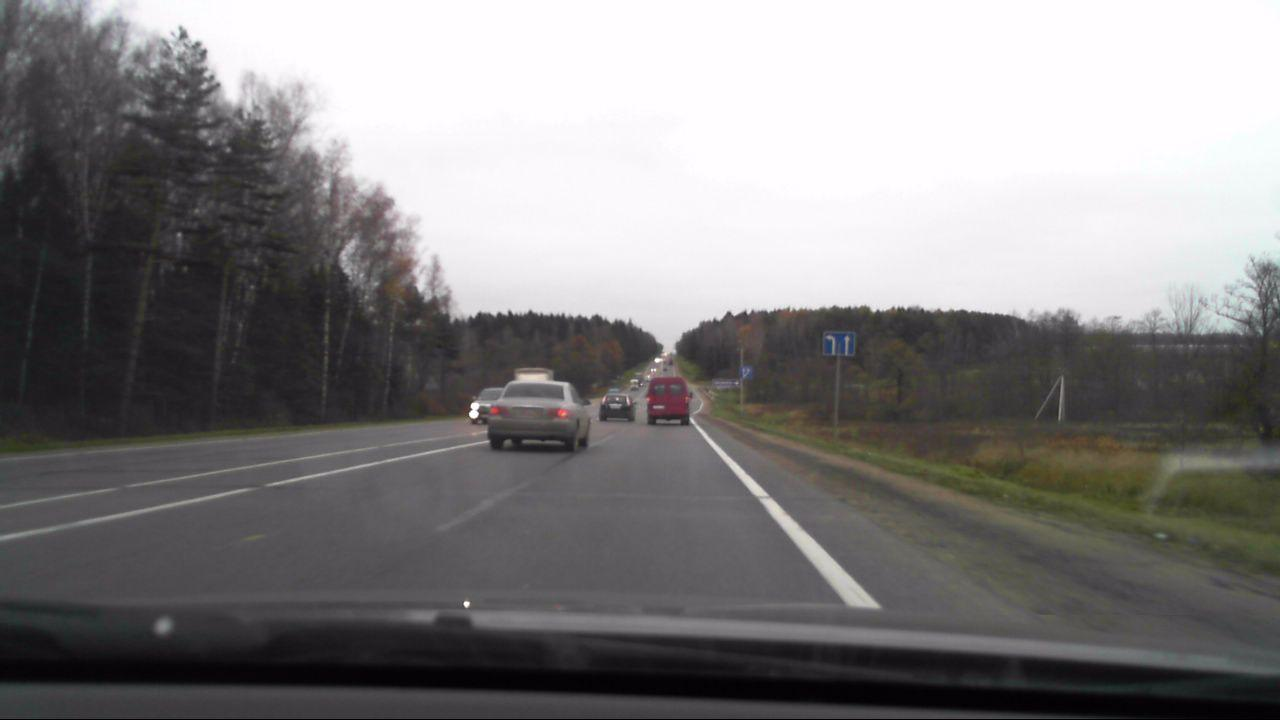5_15_1: (822, 331, 857, 358)
5_15_3: (740, 364, 753, 380)
